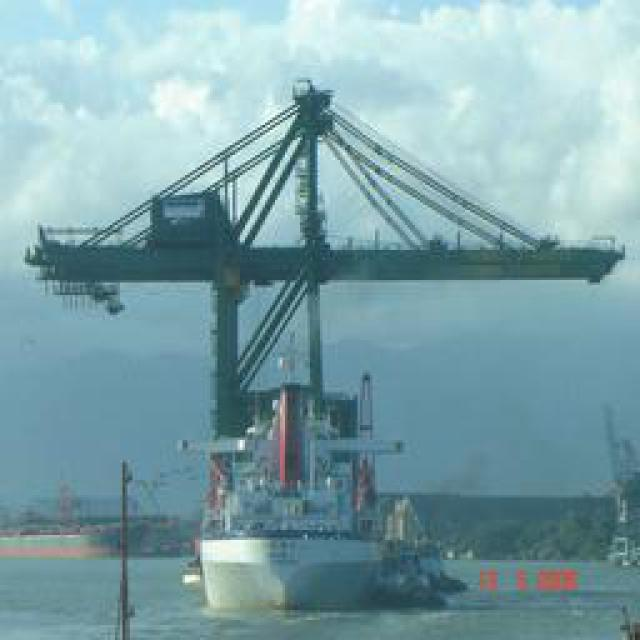Ship: (193, 316, 458, 619)
